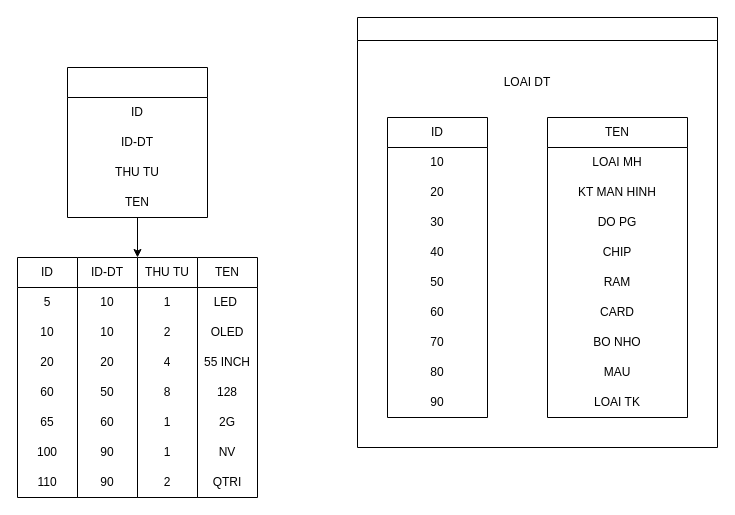
The diagram is 735 pixels wide and 515 high, and some of its shapes have lost their labels. The box of each missing label's shape, as (x1, y1, x2, y2) in pixels:
DAC TRUNG: (66, 66, 208, 218)
Vertical Container: (356, 16, 718, 448)
